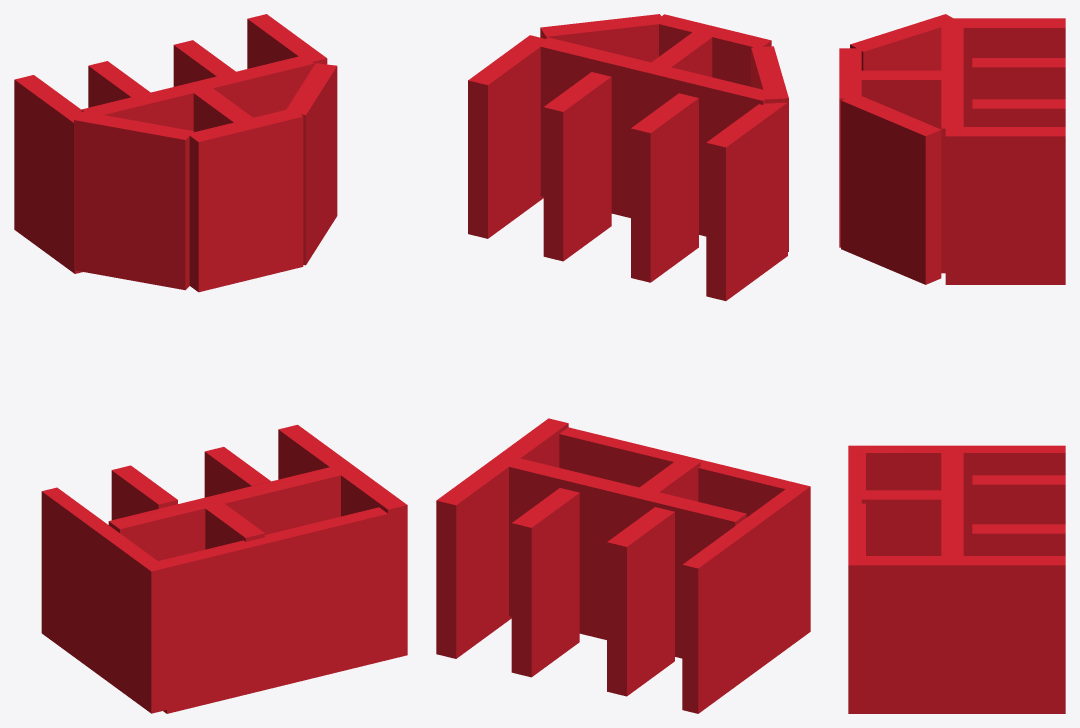
The model's file is tinker.obj.
The picture shows the model from 3 angles, left to right: view 1: azimuth 30°, elevation 25°; view 2: azimuth 150°, elevation 25°; view 3: azimuth 270°, elevation 25°; orthographic projection. The views are drawn at different scales.
Parts seen in each view (by area): view 1: obj_0; view 2: obj_0; view 3: obj_0.
Boxes of the visible parts, x1,y1,x2,y2 form: obj_0: [14, 14, 407, 713]; obj_0: [436, 14, 810, 713]; obj_0: [839, 14, 1065, 713].
Bounding box in the file's own units: 73.24 × 140 × 51.02.
